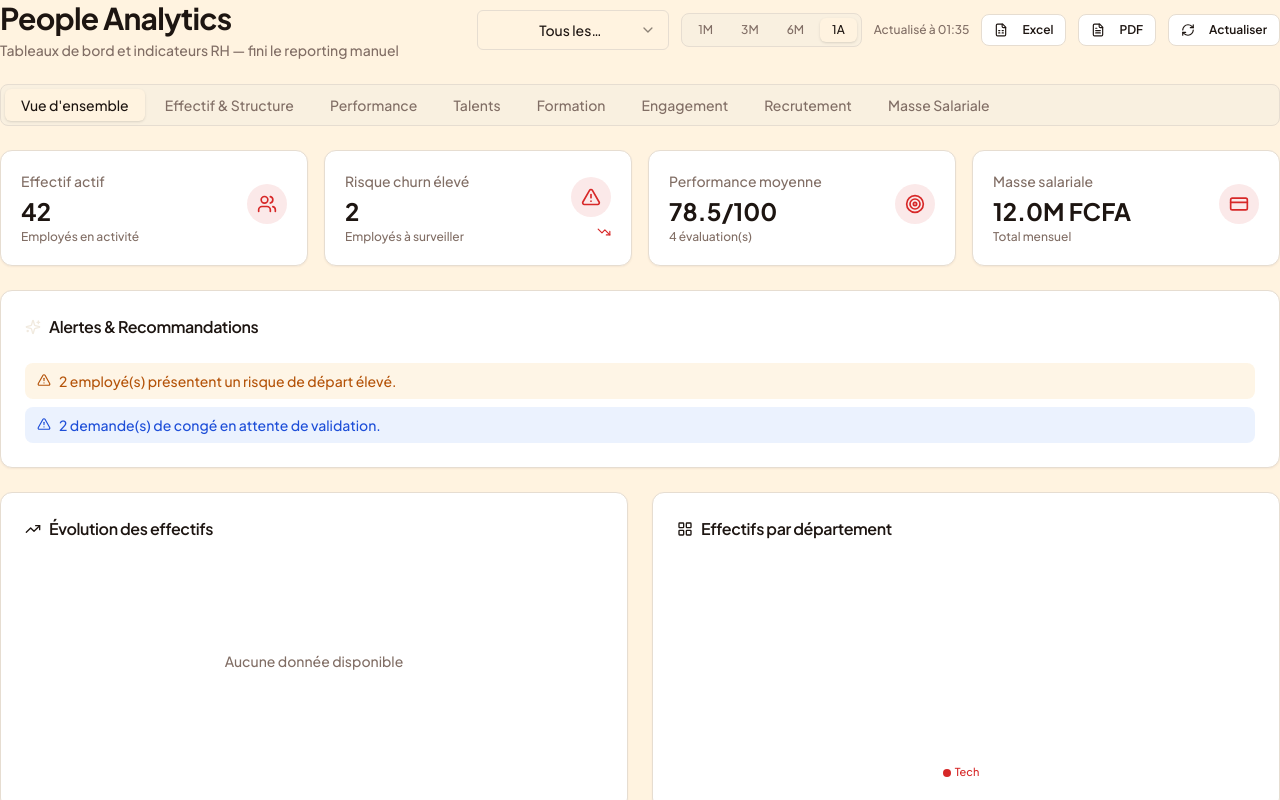
Test: AnalyticsPage › affiche la section Engagement avec la moyenne et le nombre de réponses
Expected: the text "Effectif actif" is shown, [21,172,105,190]
Click the button "Engagement": (685, 105) [626,89,744,121]
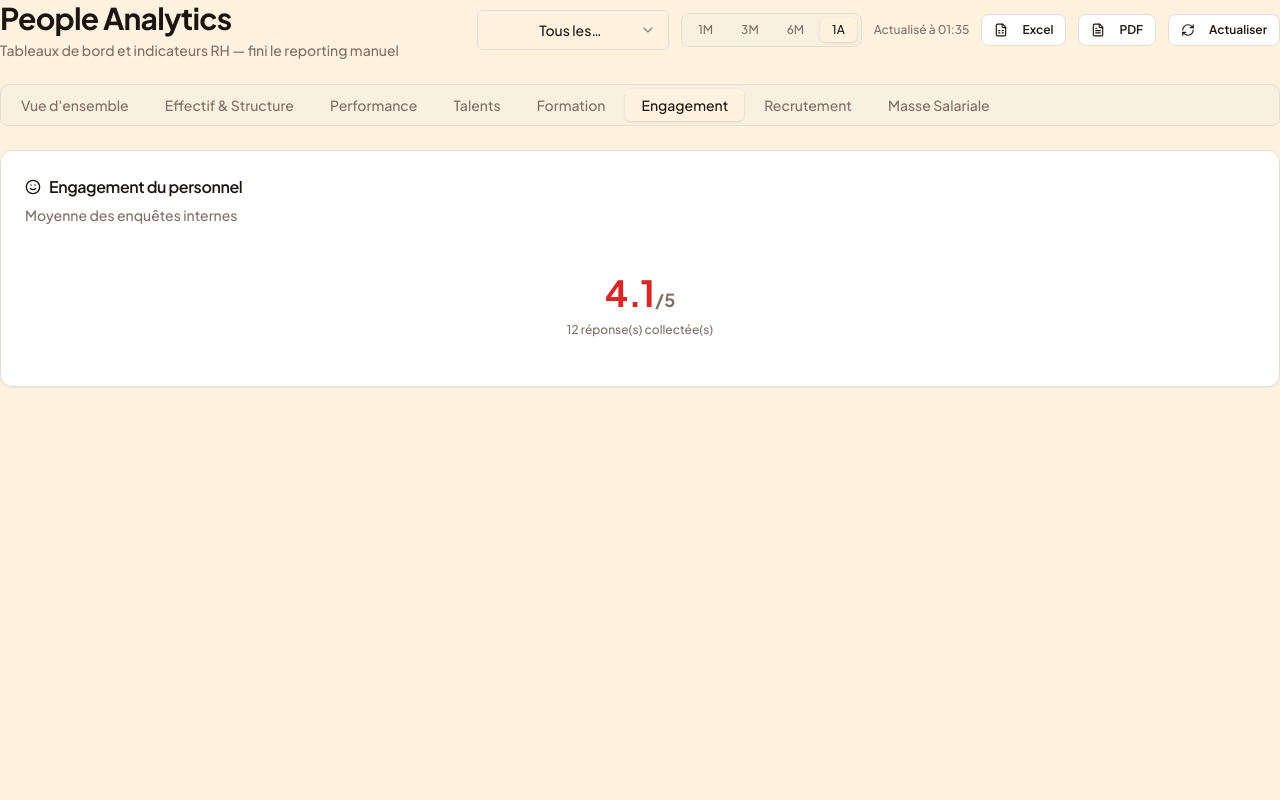
Result: the heading "Engagement du personnel" is shown at [25,176,242,197]
Result: the text "4.1" is shown at [605,270,655,315]
Result: the text "12 réponse(s) collectée(s)" is shown at [567,322,713,338]
